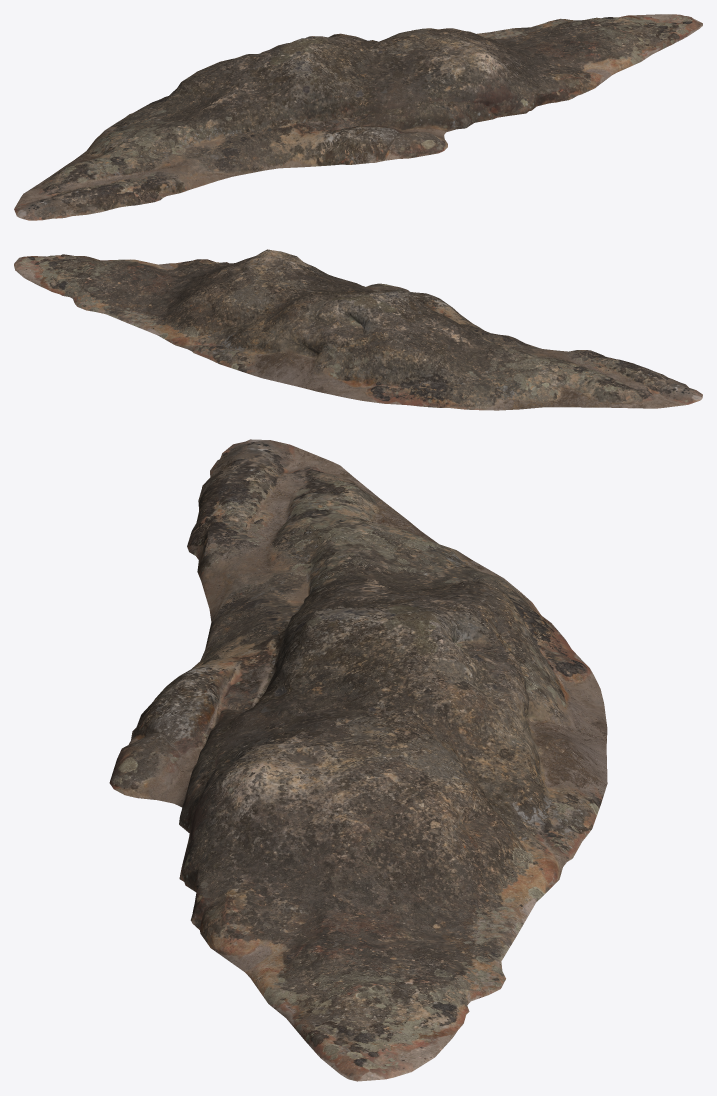
File: SM_yeombid_tier_2.gltf
3 renders of one model, top to bottom at view 1: azimuth 30°, elevation 25°; view 2: azimuth 150°, elevation 25°; view 3: azimuth 270°, elevation 25°, orthographic. The views are drawn at different scales.
Visible parts, largest first — view 1: yeombid_LOD2_TIER2_000; view 2: yeombid_LOD2_TIER2_000; view 3: yeombid_LOD2_TIER2_000.
Boxes of the visible parts, x1=… form: yeombid_LOD2_TIER2_000: x1=14, y1=14, x2=702, y2=220; yeombid_LOD2_TIER2_000: x1=14, y1=249, x2=702, y2=410; yeombid_LOD2_TIER2_000: x1=109, y1=439, x2=607, y2=1081.
Size of the model in its own units: 4.98 by 0.4141 by 1.64.
Materials: 1 (1 with a texture image).
